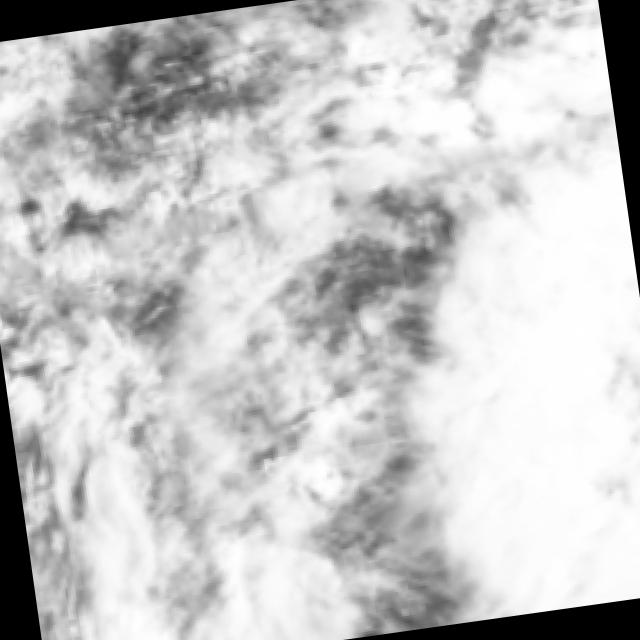CB: (477, 236, 640, 614)
